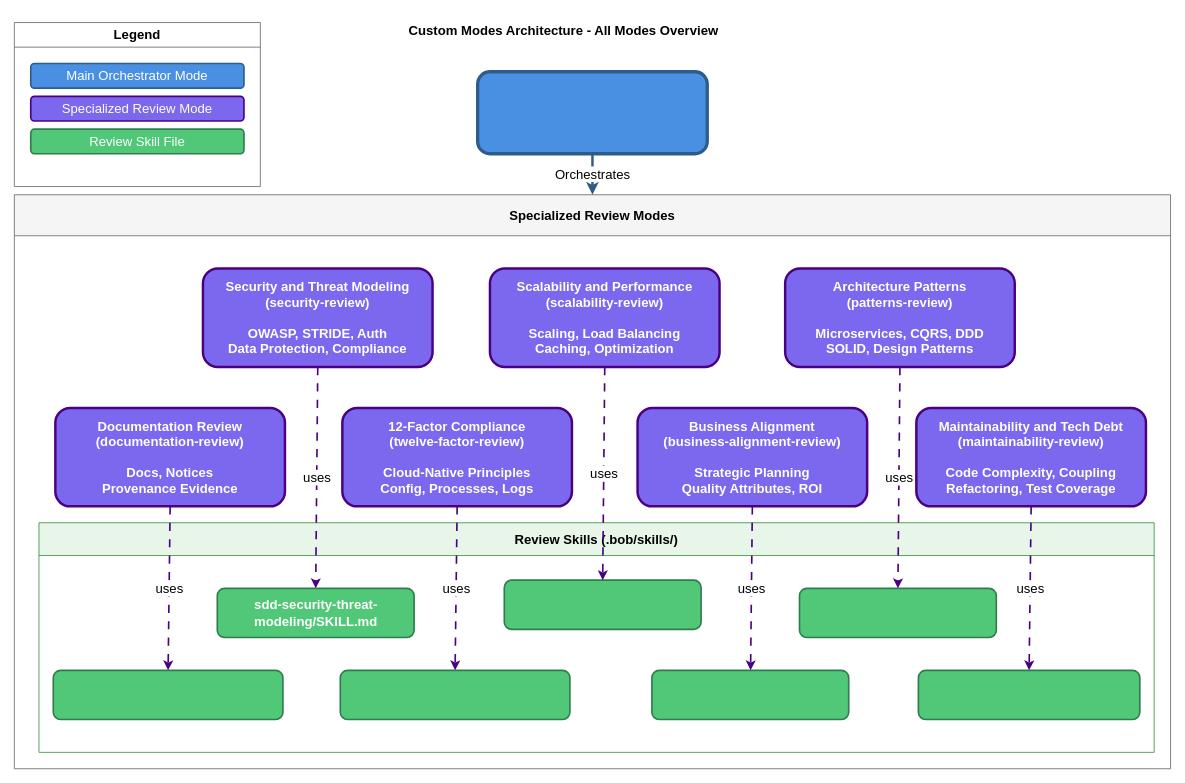
The diagram is 1185 pixels wide and 783 high, and some of its shapes have lost their labels. Each missing label, with the centre of its shape:
"Architecture Review (arch-review) Main Orchestrator" goes at point (592, 112).
"sdd-architecture-patterns/SKILL.md" goes at point (897, 612).
"sdd-business-alignment/SKILL.md" goes at point (750, 694).
"sdd-documentation-review/SKILL.md" goes at point (167, 694).
"sdd-maintainability-technical-debt/SKILL.md" goes at point (1028, 694).
"sdd-scalability-performance/SKILL.md" goes at point (602, 604).
"sdd-twelve-factor-compliance/SKILL.md" goes at point (454, 694).
